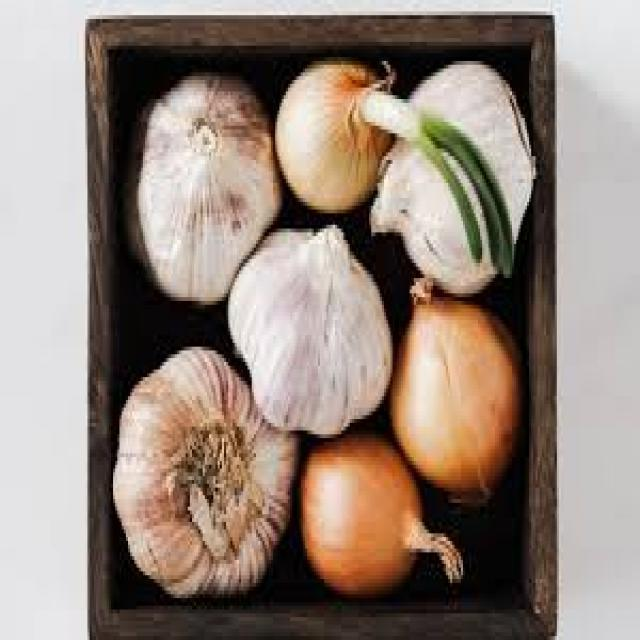Onion: (389, 279, 528, 509), (360, 89, 514, 278), (298, 434, 467, 597), (279, 59, 392, 213)
